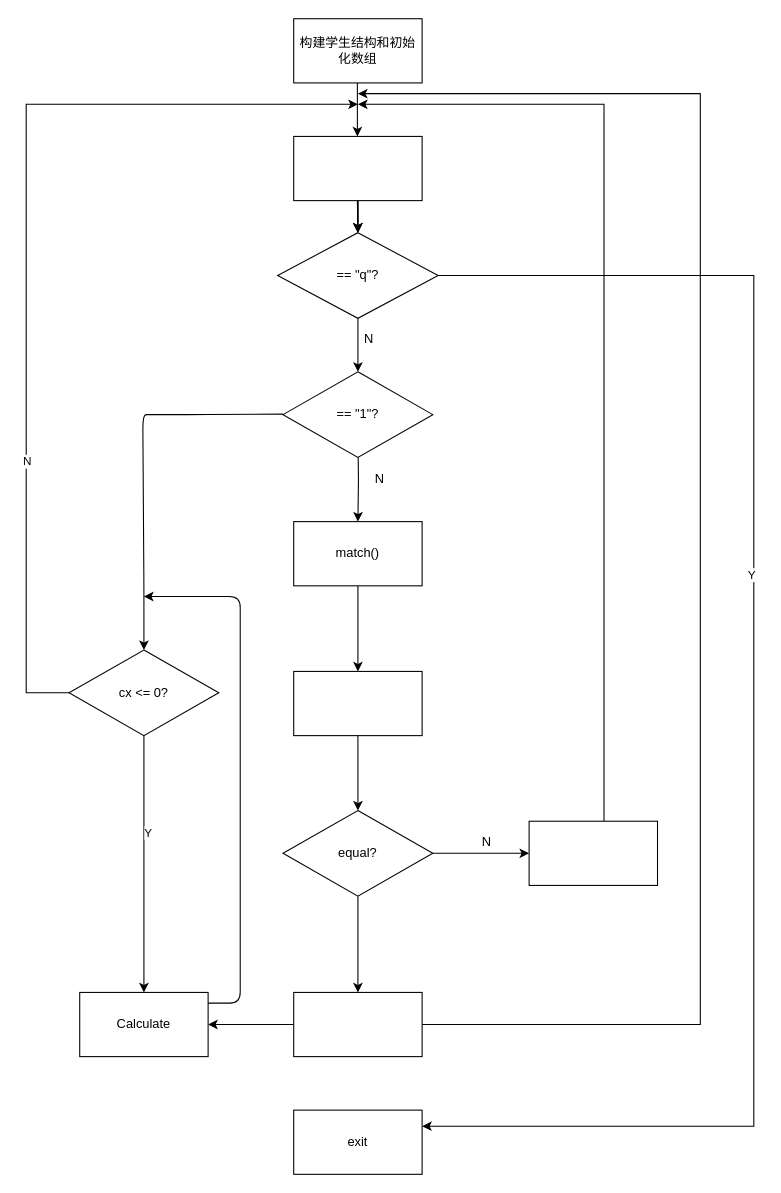
This 781x1193 diagram has some shape labels left out. The box of each missing label's shape, as (x1, y1, x2, y2) in pixels:
repz movsb: (293, 670, 422, 736)
成功找到: (293, 991, 422, 1057)
无匹配提示: (528, 820, 658, 885)
输出提示字符串: (293, 135, 422, 201)
